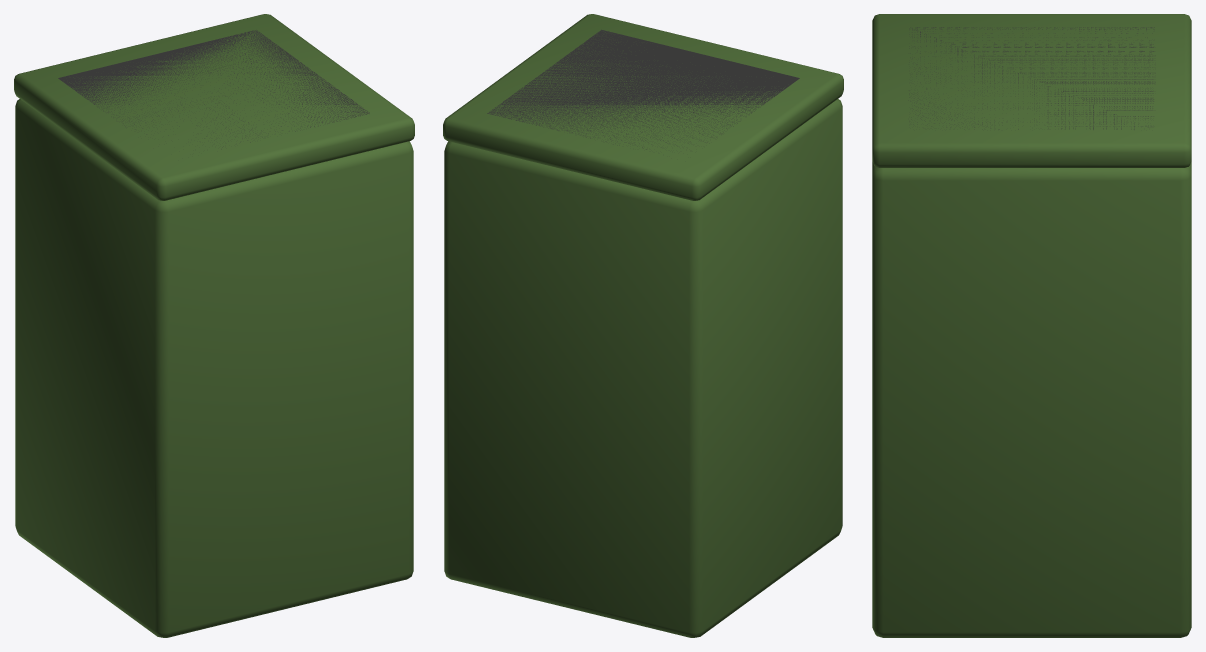
Rendered from utility.compost-bin.glb.
The picture shows the model from 3 angles, left to right: view 1: azimuth 30°, elevation 25°; view 2: azimuth 150°, elevation 25°; view 3: azimuth 270°, elevation 25°; orthographic projection. The views are drawn at different scales.
Visible parts, largest first — view 1: utility.compost-bin.001; view 2: utility.compost-bin.001; view 3: utility.compost-bin.001.
Part boxes in pixels (<box>): utility.compost-bin.001: <box>14,14,414,637</box>; utility.compost-bin.001: <box>443,14,843,637</box>; utility.compost-bin.001: <box>872,14,1191,637</box>.
Bounding box in the file's own units: 0.35 × 0.6 × 0.35.
